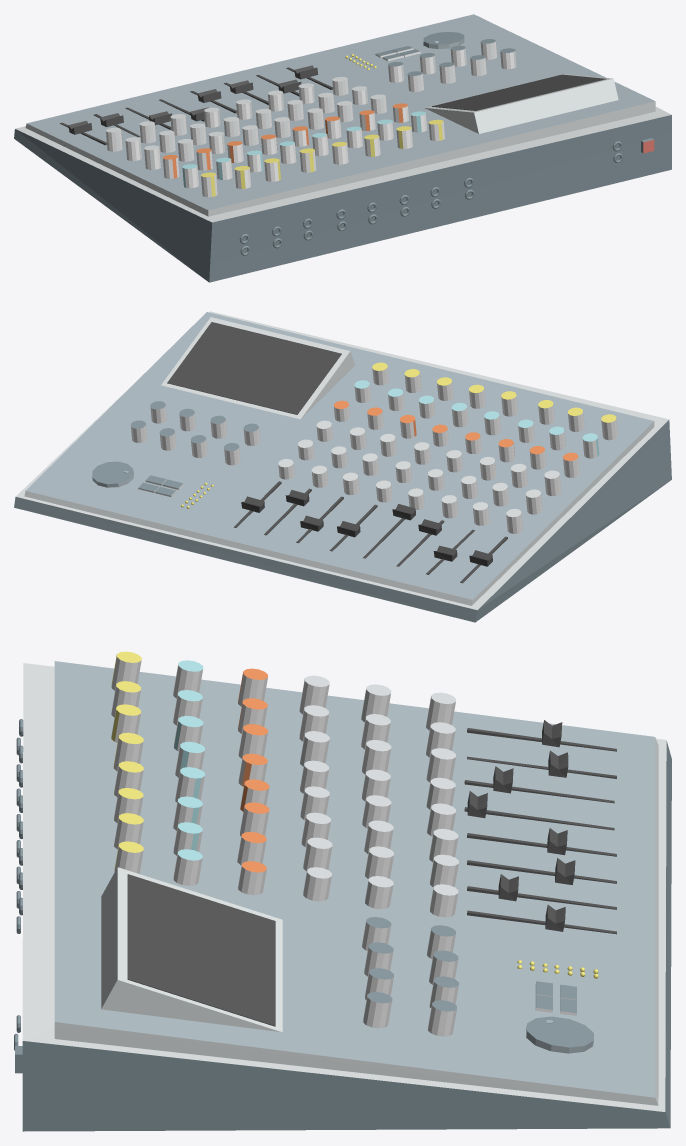
Rendered from audio.dae.
3 renders of one model, top to bottom at view 1: azimuth 30°, elevation 25°; view 2: azimuth 150°, elevation 25°; view 3: azimuth 270°, elevation 25°, orthographic. The views are drawn at different scales.
Visible parts, largest first — view 1: mesh1044398291, mesh46021557, mesh1285066321, mesh79297576, mesh585407428; view 2: mesh1044398291, mesh46021557, mesh79297576, mesh1285066321, mesh585407428; view 3: mesh1044398291, mesh46021557, mesh79297576, mesh1285066321, mesh585407428, mesh1928956943, mesh1691023472, mesh604880534, mesh944311541, mesh1115758431, mesh916088644, mesh1304572911 (+45 smaller).
Part boxes in pixels (box(x1,y1,x2,y2)): mesh1044398291: box(25, 14, 655, 216); mesh46021557: box(14, 15, 671, 282); mesh1285066321: box(424, 74, 618, 133); mesh79297576: box(432, 74, 606, 110); mesh585407428: box(423, 31, 464, 49); mesh1044398291: box(24, 312, 654, 605); mesh46021557: box(14, 311, 671, 622); mesh79297576: box(167, 322, 341, 414); mesh1285066321: box(161, 317, 355, 419); mesh585407428: box(92, 461, 133, 487); mesh1044398291: box(54, 661, 658, 1105); mesh46021557: box(22, 663, 671, 1131); mesh79297576: box(127, 874, 275, 1026); mesh1285066321: box(101, 867, 282, 1032); mesh585407428: box(526, 1016, 593, 1053); mesh1928956943: box(173, 849, 202, 885); mesh1691023472: box(363, 992, 392, 1028); mesh604880534: box(428, 1000, 456, 1036); mesh944311541: box(303, 867, 331, 901); mesh1115758431: box(238, 861, 266, 895); mesh916088644: box(111, 651, 141, 690); mesh1304572911: box(299, 675, 329, 714).
Bounding box in the file's own units: 3.44 × 2.57 × 0.5546.
